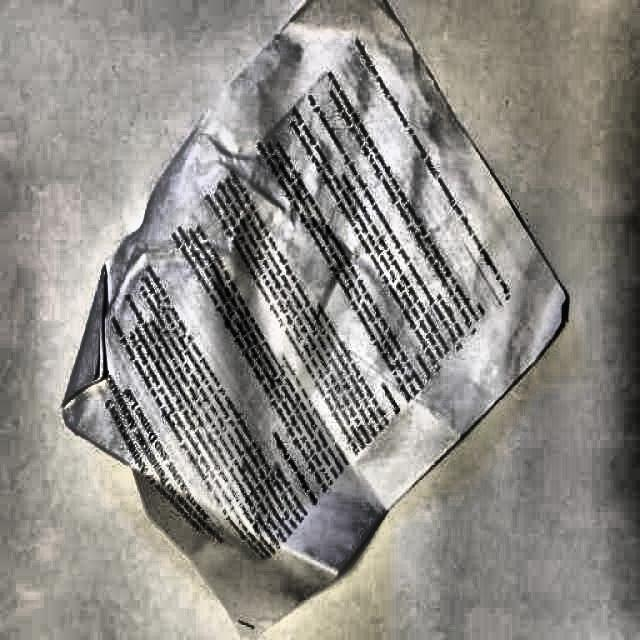Paper: (59, 0, 566, 627)
